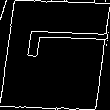L_E: (3, 38, 107, 72)
